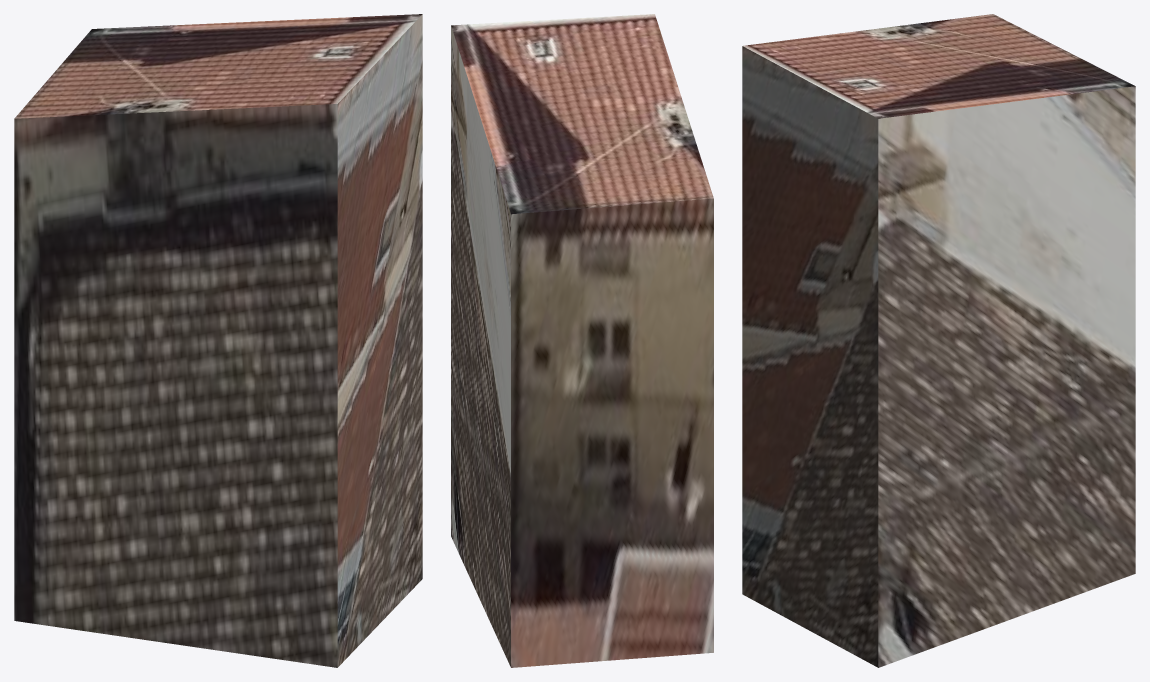
The picture shows the model from 3 angles, left to right: view 1: azimuth 30°, elevation 25°; view 2: azimuth 150°, elevation 25°; view 3: azimuth 270°, elevation 25°; orthographic projection. The views are drawn at different scales.
Parts seen in each view (by area): view 1: Z_UP; view 2: Z_UP; view 3: Z_UP.
Boxes of the visible parts, x1,y1,x2,y2 form: Z_UP: (14,14,422,667); Z_UP: (451,14,713,667); Z_UP: (742,14,1135,667).
Size of the model in its own units: 8.93 by 13.79 by 8.95.
2 materials, 1 textured.
